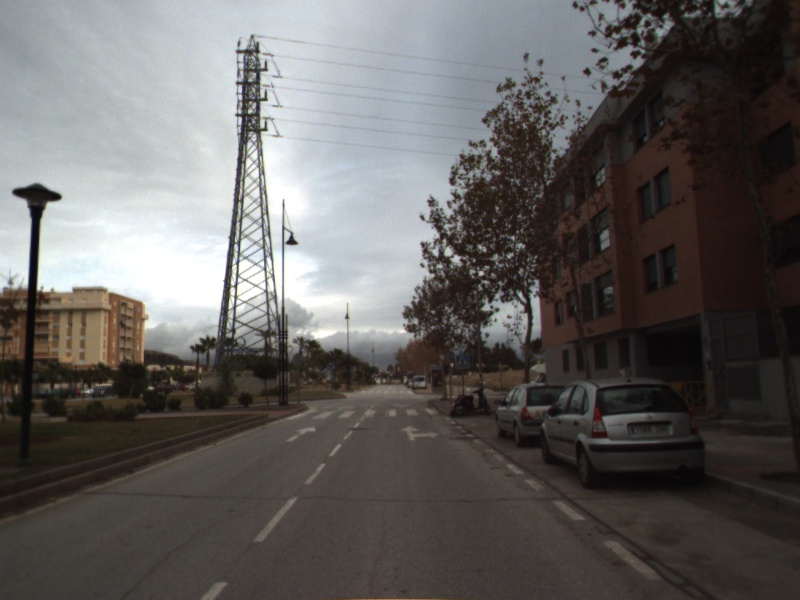STRAIGHT: (284, 424, 318, 444)
STRAIGHT_RIGHT: (398, 424, 440, 442)
